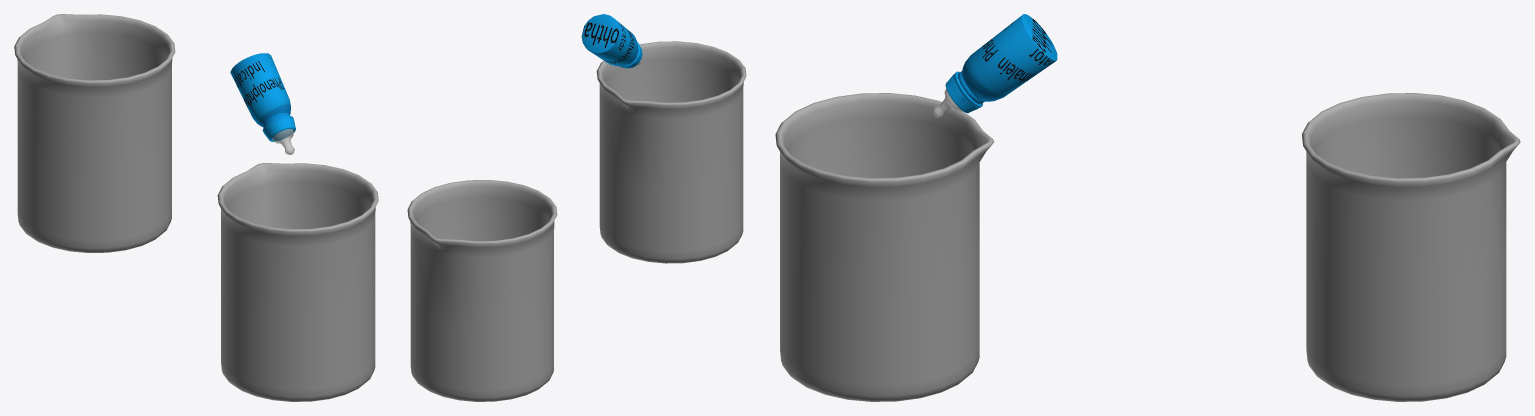
Rendered from phenolphthalein_experi.fbx.
3 views of the same model, side by side, from view 1: azimuth 30°, elevation 25°; view 2: azimuth 150°, elevation 25°; view 3: azimuth 270°, elevation 25° (orthographic). The views are drawn at different scales.
Parts seen in each view (by area): view 1: polySurface8, polySurface6, mythl_orange; view 2: polySurface6, polySurface8, mythl_orange; view 3: polySurface6, polySurface8, mythl_orange.
Boxes of the visible parts, <box> form: polySurface8: <box>217,163,378,401</box>; polySurface6: <box>14,14,175,252</box>; mythl_orange: <box>230,53,295,154</box>; polySurface6: <box>407,180,557,401</box>; polySurface8: <box>596,41,746,263</box>; mythl_orange: <box>581,14,642,68</box>; polySurface6: <box>1302,93,1520,401</box>; polySurface8: <box>775,93,993,401</box>; mythl_orange: <box>932,14,1057,117</box>.
Bounding box in the file's own units: 20.44 × 38.39 × 73.06.
4 materials, 1 textured.
